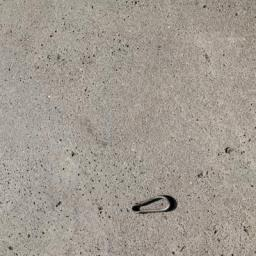FOD: (126, 192, 181, 217)
